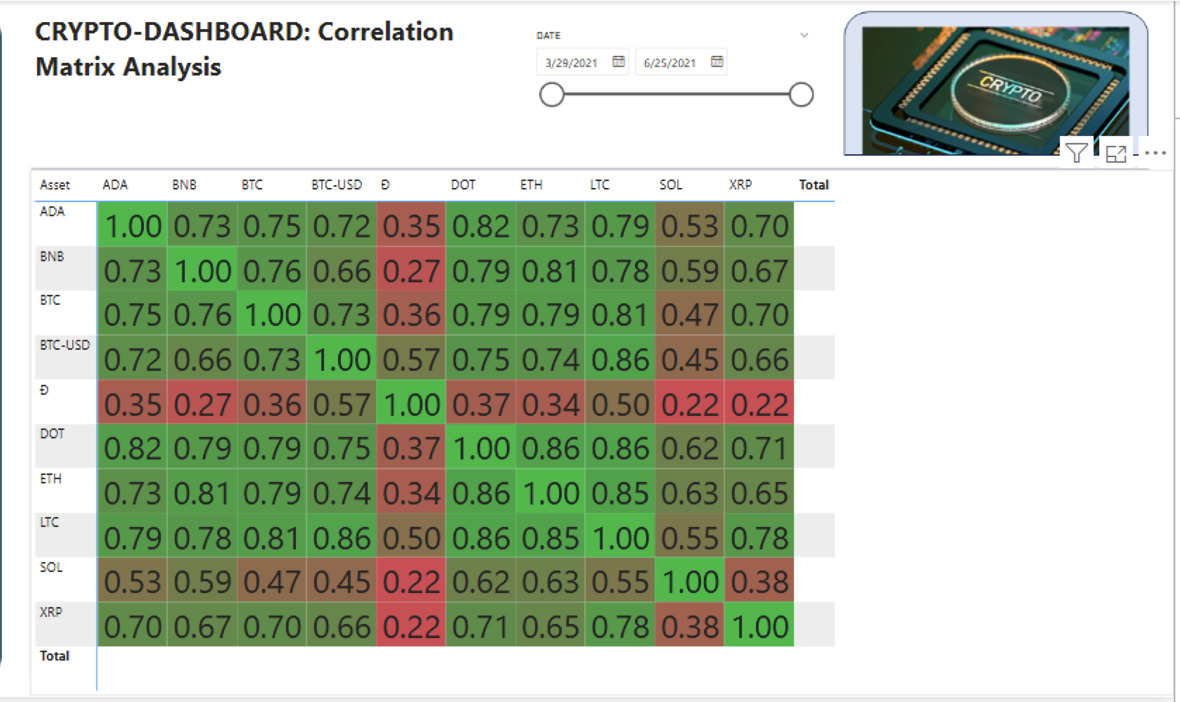

This screenshot's page, from the dashboard's own definition file:
{"tool":"powerbi","page":{"name":"Page 5","canvas":[1280,720],"ordinal":4},"visuals":[{"type":"pivotTable","fields":{"Values":["Symbolist.Correlation Coeff"],"Rows":["Symbolist.Asset"],"Columns":["Symbolist 2.Asset"]},"box":[98.2,174.3,1181.8,544.9],"z":0},{"type":"slicer","fields":{"Values":["DateTable.DATE"]},"box":[607.5,25.1,307.4,131.5],"z":1},{"type":"textbox","box":[98,7,509,150],"z":2}]}

Visuals, with their boxes on the page's 1280x720 design canvas (x1, y1, x2, y2). These are canvas units, not pixel positions in the 1180x702 screenshot, which may show the page scaled, cropped or inside an application window:
pivotTable - Symbolist.Correlation Coeff x Symbolist.Asset: bbox=(98, 174, 1280, 719)
slicer - DateTable.DATE: bbox=(608, 25, 915, 157)
textbox: bbox=(98, 7, 607, 157)
